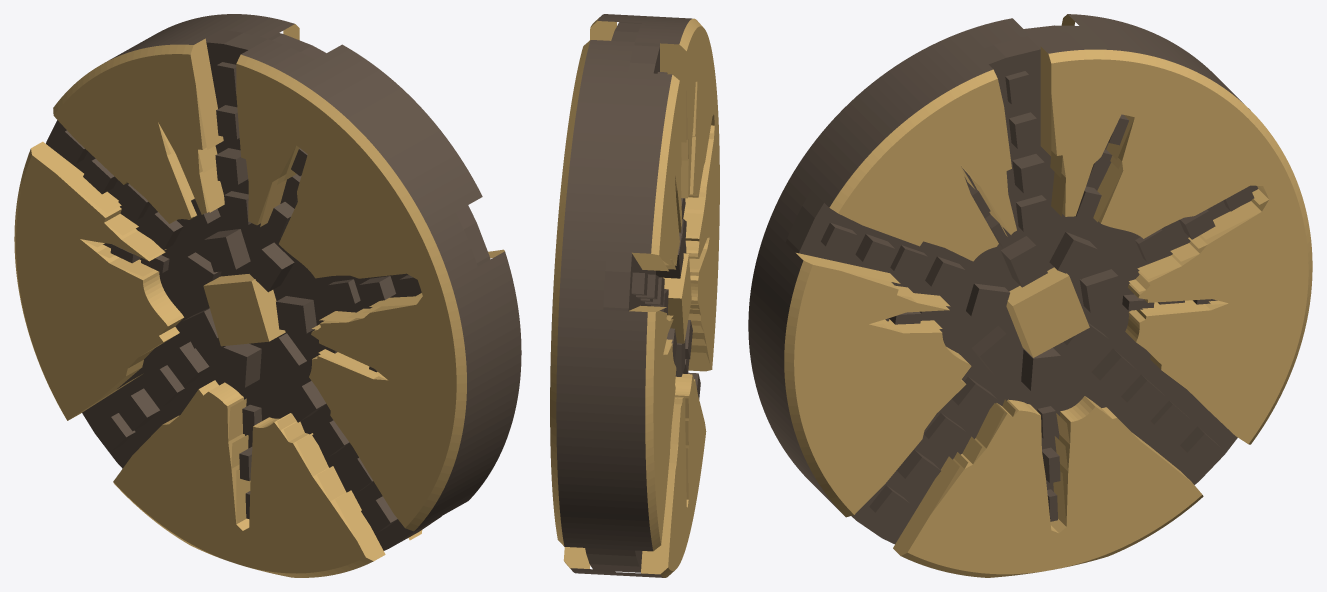
3 renders of one model, left to right at view 1: azimuth 30°, elevation 25°; view 2: azimuth 150°, elevation 25°; view 3: azimuth 270°, elevation 25°, orthographic. The views are drawn at different scales.
Parts seen in each view (by area): view 1: il-grande-disco; view 2: il-grande-disco; view 3: il-grande-disco.
Part boxes in pixels (x1,y1,x2,y2): il-grande-disco: (14,14,521,577); il-grande-disco: (550,14,719,577); il-grande-disco: (748,14,1312,577).
Size of the model in its own units: 2.52 by 4.51 by 4.49.
